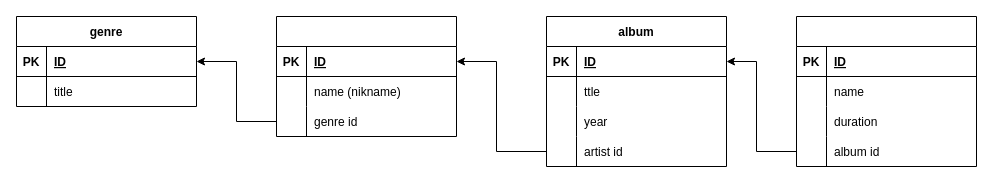
The diagram is 993 pixels wide and 183 high, and some of its shapes have lost their labels. The shapes that lost their labels are listed below. From the top down, each one's box as (x1, y1, x2, y2) in pixels, then its label:
(276, 16, 456, 136): artist
(796, 16, 976, 166): song
